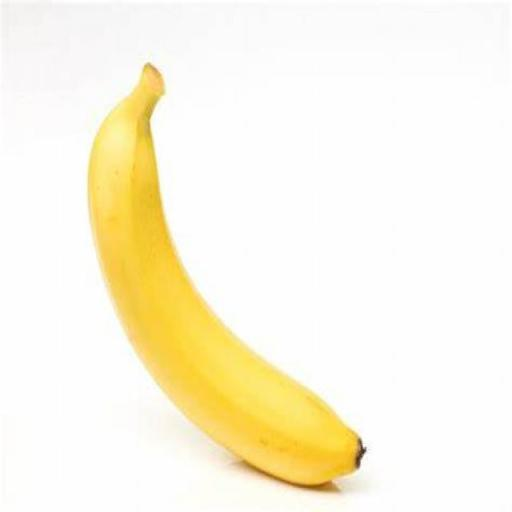fruit: (89, 64, 363, 484)
